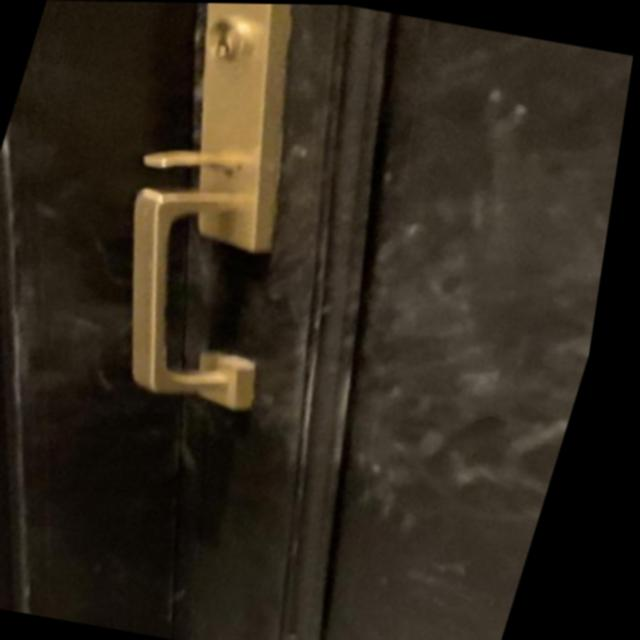door_handle: (68, 166, 354, 429)
